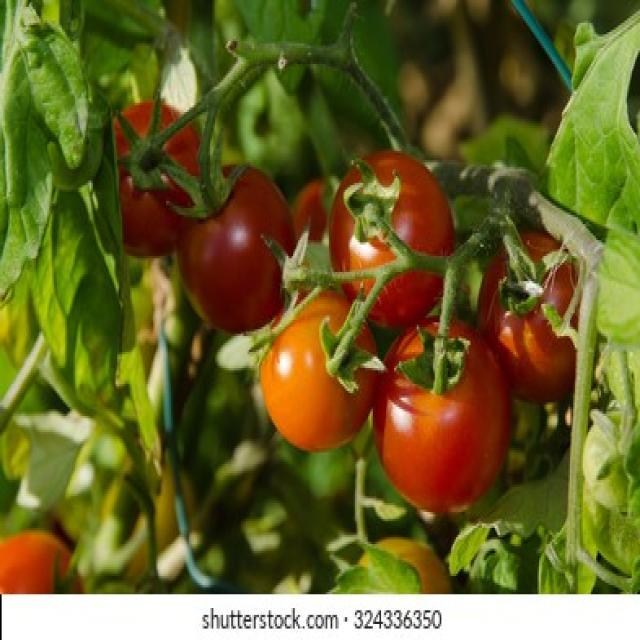kirmizi: (326, 178, 512, 460)
